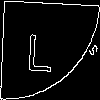L: (25, 25, 55, 72)
